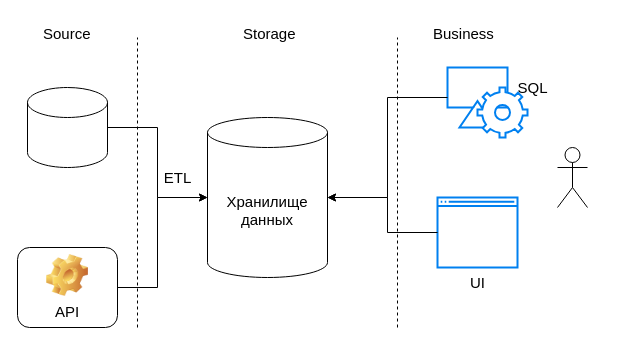
The diagram is 626 pixels wide and 346 high, and some of its shapes have lost their labels. Each missing label, with the box of its shape:
HR бд: (26, 86, 108, 168)
Пользователи: (556, 146, 588, 208)
